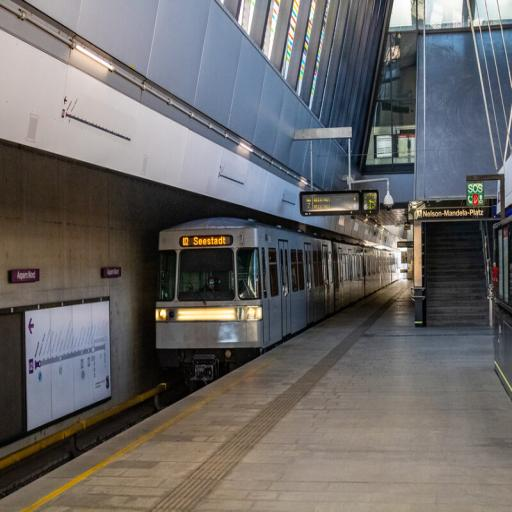Silberpfeil: (153, 218, 400, 356)
